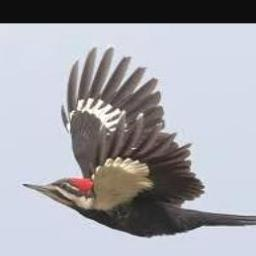Woodpecker: (21, 47, 256, 236)
